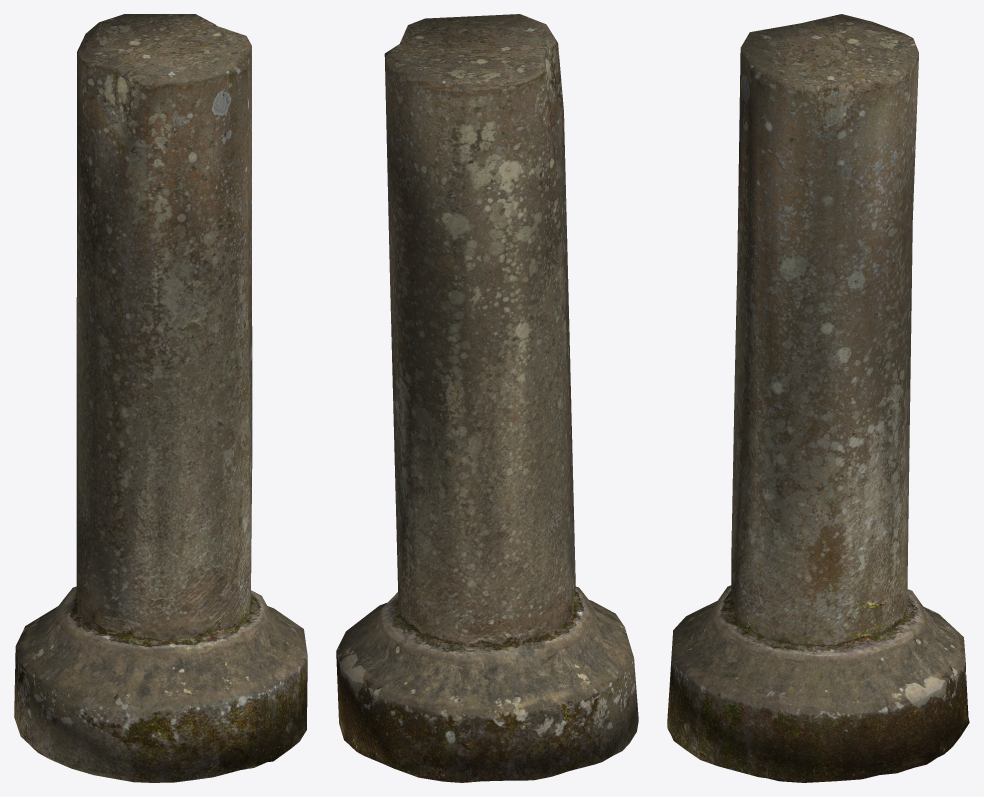
The model's file is pillar.glb.
3 views of the same model, side by side, from view 1: azimuth 30°, elevation 25°; view 2: azimuth 150°, elevation 25°; view 3: azimuth 270°, elevation 25° (orthographic).
Parts seen in each view (by area): view 1: selvF_LOD0_TIER3_000; view 2: selvF_LOD0_TIER3_000; view 3: selvF_LOD0_TIER3_000.
Boxes of the visible parts, box(x1,y1,x2,y2) form: selvF_LOD0_TIER3_000: box(14, 14, 307, 782); selvF_LOD0_TIER3_000: box(336, 14, 638, 782); selvF_LOD0_TIER3_000: box(667, 14, 969, 782).
Size of the model in its own units: 0.4873 by 1.22 by 0.4927.
1 material, 1 textured.
